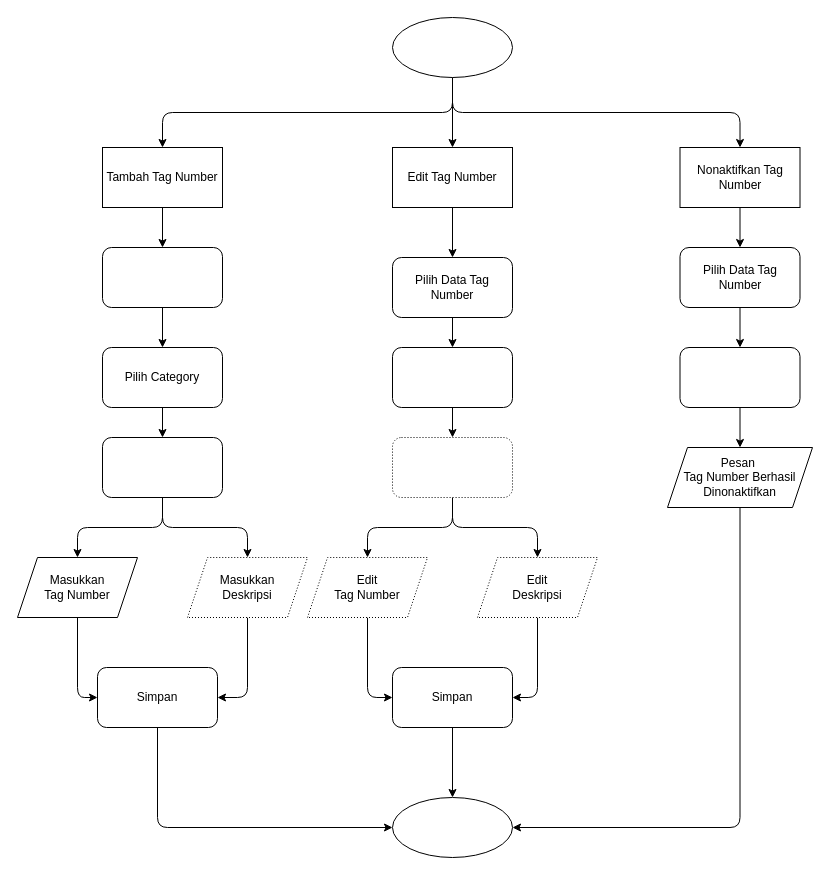
Some shapes in this 830 by 875 pixel diagram are drawn without their labels. The shapes that lost their labels are listed below. From the top down, each one's centre as x and y in pixels, then its label:
At point 452,47: "START".
At point 162,277: "Pilih Unit".
At point 452,377: "Klik Edit Data".
At point 739,377: "Klik Nonaktifkan".
At point 162,467: "Pilih Type".
At point 452,467: "Edit Parent Unit, Category & Type".
At point 452,827: "END".
